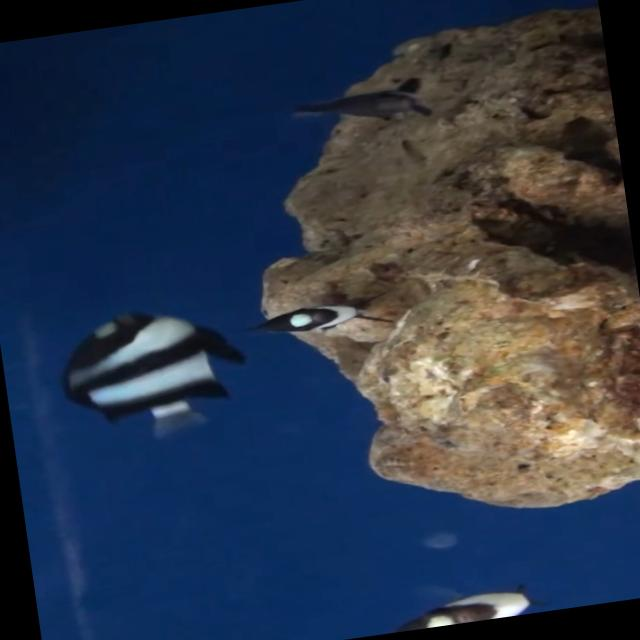ThreeStripedDamselfish: (63, 310, 247, 437), (396, 582, 545, 632), (260, 295, 392, 331)
